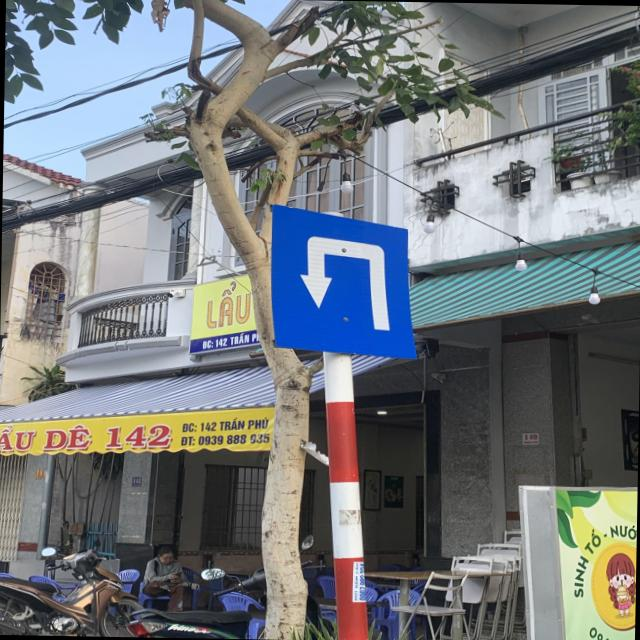Den_Giao_Thong: (268, 204, 414, 357)
